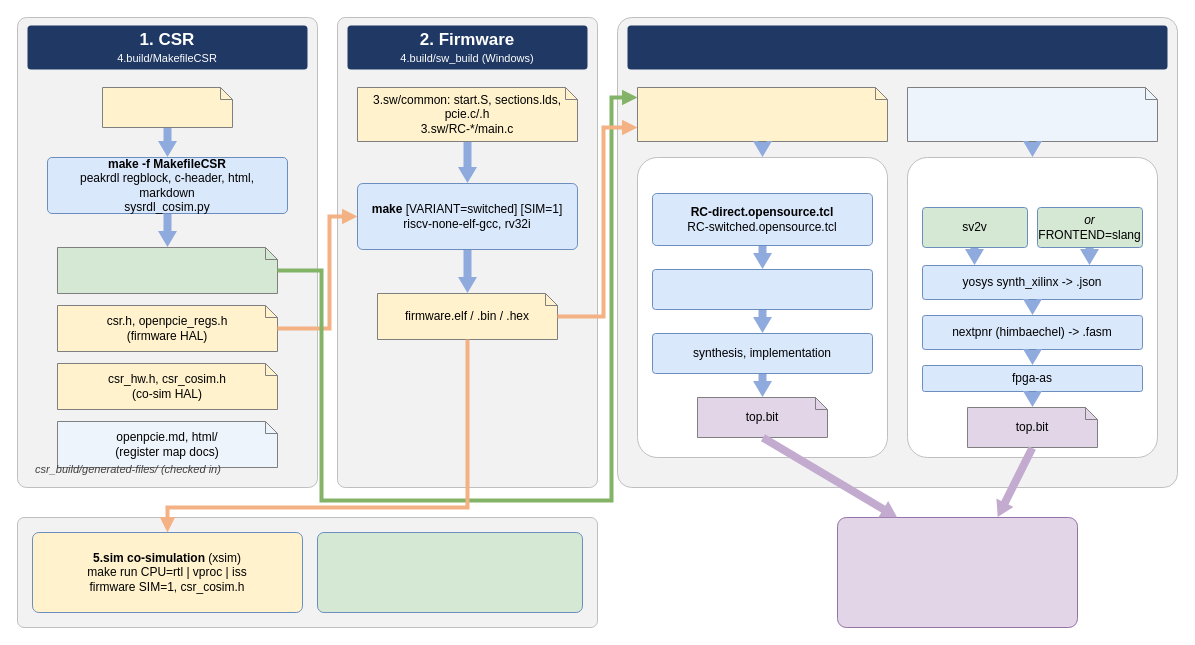
Some shapes in this 1195 by 645 pixel diagram are drawn without their labels. Each missing label, with the box of its shape:
2.rtl/0.common.opensource/src + csr_pkg.sv, csr.sv + firmware.hex (RAM init): (636, 86, 888, 142)
3. Bitstream xc7a200t on the Acorn CLE-215+: (627, 25, 1167, 69)
Acorn CLE-215+ openPCIE backplane link up at Gen2: (836, 516, 1078, 628)
AMD Vivado (Windows): (636, 156, 888, 458)
csr_build/csr.rdl: (102, 86, 232, 128)
csr_pkg.sv, csr.sv (register block RTL): (56, 246, 278, 294)
formal equivalence hw_build.openXC7/equiv.sh pcie_top, old vs new RTL (Yosys): (316, 532, 582, 612)
openXC7 v1.0.0 (WSL) hw_build.openXC7/Makefile: (906, 156, 1158, 458)
xbuild.Vivado-v2024.2/*.xpr: (652, 268, 872, 310)
XDC: 0.common + variant lane (Vivado) / openxc7*.xdc (openXC7): (906, 86, 1158, 142)
